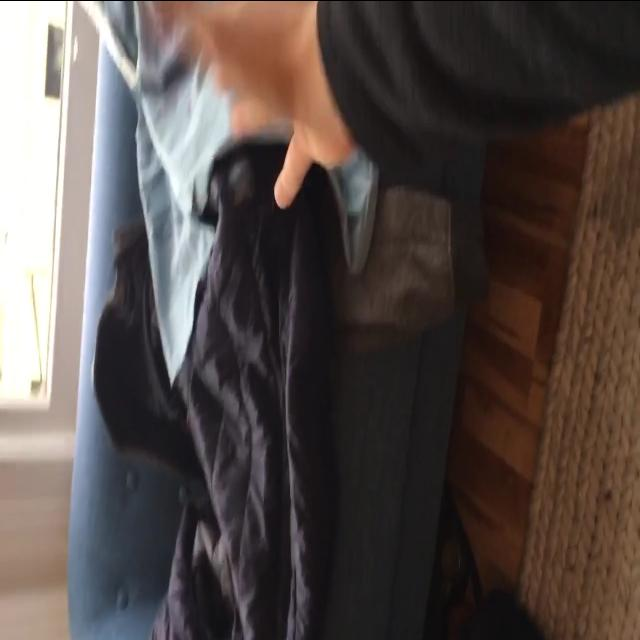Paper: (144, 0, 348, 208)
